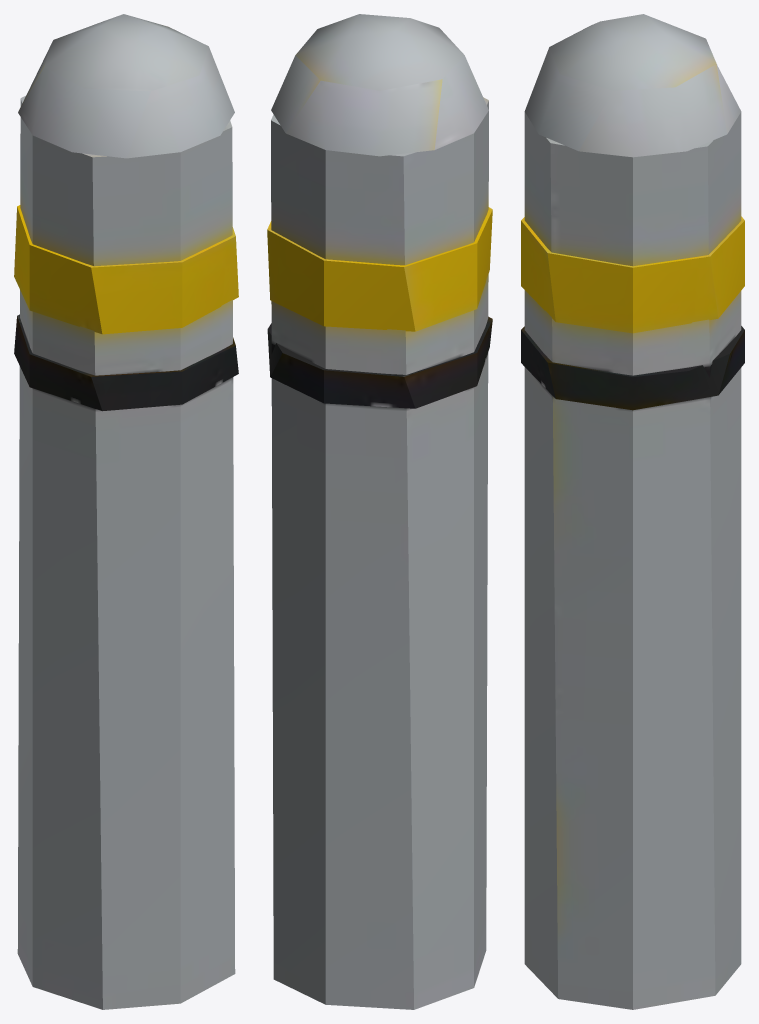
Rendered from detail_bollard.glb.
3 renders of one model, left to right at view 1: azimuth 30°, elevation 25°; view 2: azimuth 150°, elevation 25°; view 3: azimuth 270°, elevation 25°, orthographic.
Visible parts, largest first — view 1: detail_bollard_LOD0; view 2: detail_bollard_LOD0; view 3: detail_bollard_LOD0.
Boxes of the visible parts, left/top/right/bottom form: detail_bollard_LOD0: left=14, top=14, right=238, bottom=1009; detail_bollard_LOD0: left=267, top=14, right=492, bottom=1009; detail_bollard_LOD0: left=521, top=14, right=744, bottom=1009.
Size of what is drawn, in the model's own units: 0.1855 by 0.8599 by 0.1855.
1 material, 1 textured.
